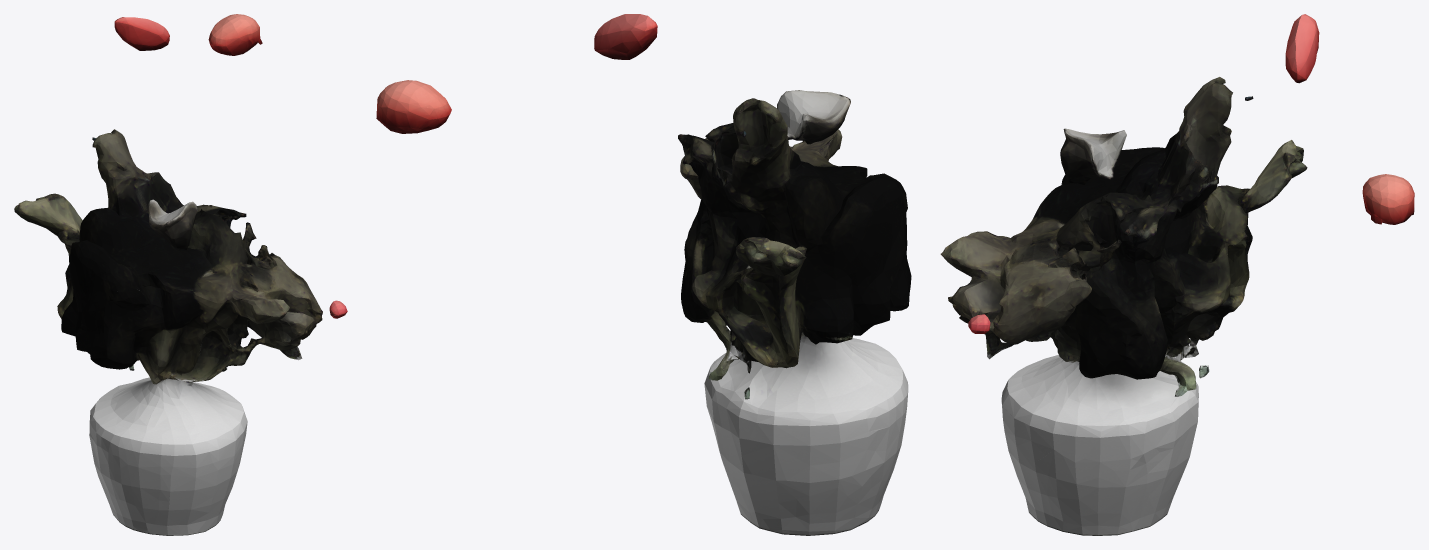
3 renders of one model, left to right at view 1: azimuth 30°, elevation 25°; view 2: azimuth 150°, elevation 25°; view 3: azimuth 270°, elevation 25°, orthographic. The views are drawn at different scales.
Parts seen in each view (by area): view 1: world; view 2: world; view 3: world.
Boxes of the visible parts, left/top/right/bottom form: world: left=14, top=14, right=347, bottom=535; world: left=376, top=14, right=911, bottom=535; world: left=940, top=14, right=1414, bottom=535.
Size of the model in its own units: 0.7041 by 0.9983 by 0.8291.
1 material, 1 textured.
